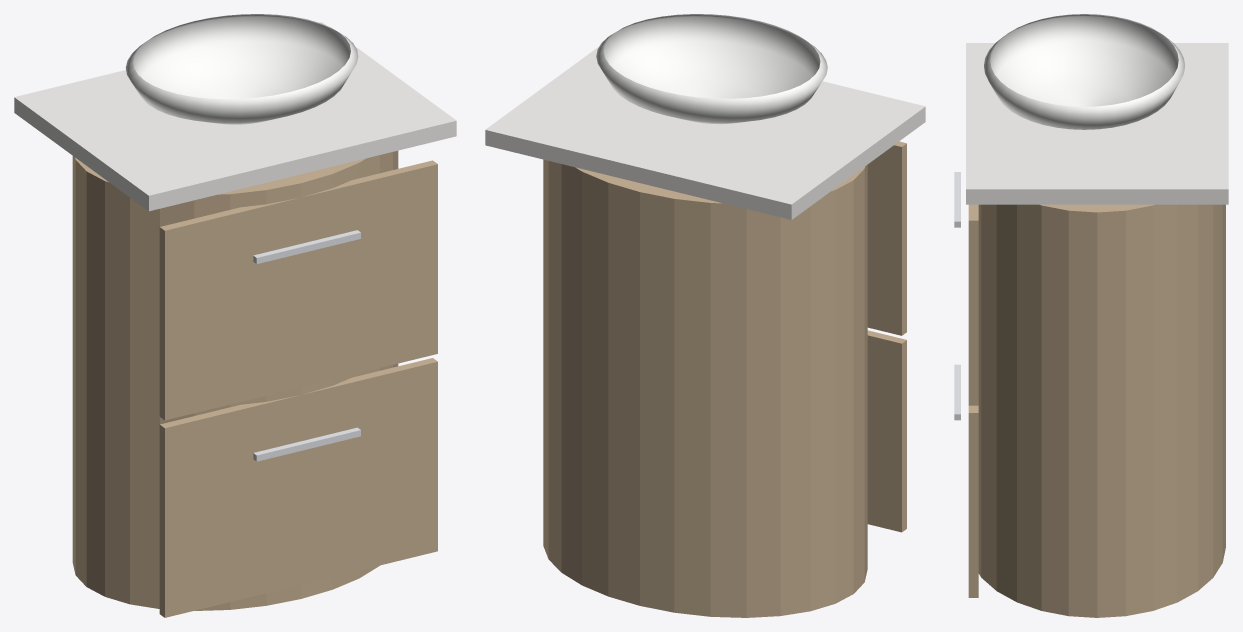
Rendered from vanity-curved.glb.
The picture shows the model from 3 angles, left to right: view 1: azimuth 30°, elevation 25°; view 2: azimuth 150°, elevation 25°; view 3: azimuth 270°, elevation 25°; orthographic projection. The views are drawn at different scales.
Parts seen in each view (by area): view 1: body; view 2: body; view 3: body.
Part boxes in pixels (x1,y1,x2,y2): body: [14, 14, 456, 617]; body: [485, 14, 925, 617]; body: [954, 14, 1228, 617].
Size of the model in its own units: 0.62 by 0.96 by 0.491.
